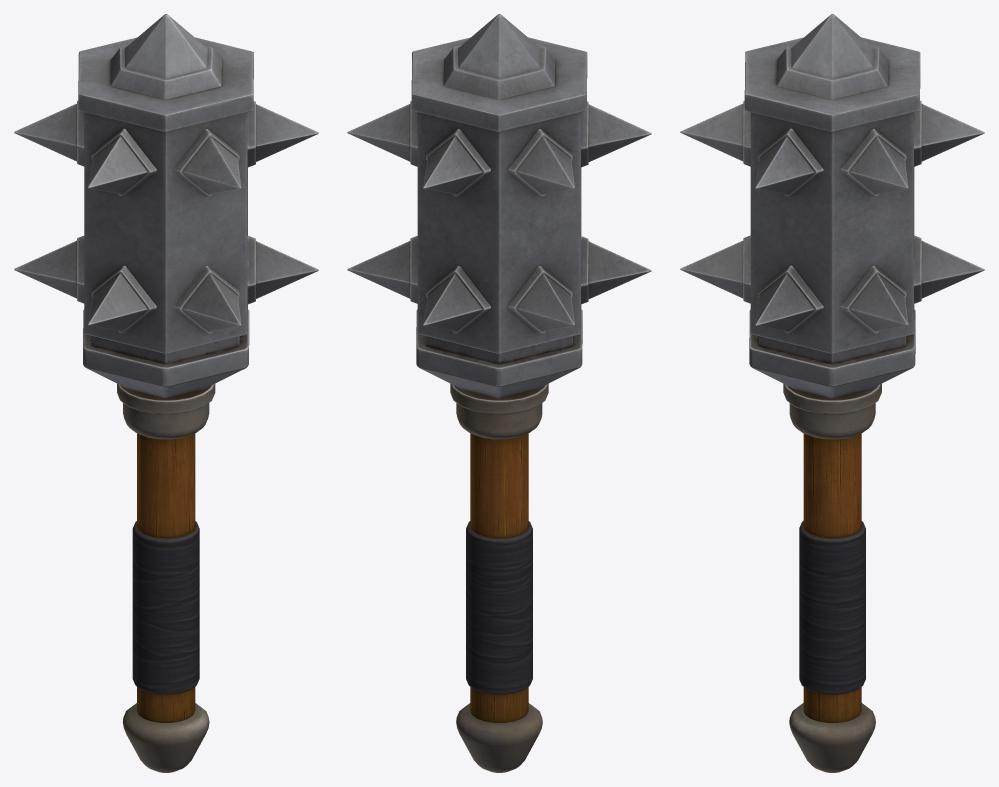
Rendered from stick_mace.fbx.
3 renders of one model, left to right at view 1: azimuth 30°, elevation 25°; view 2: azimuth 150°, elevation 25°; view 3: azimuth 270°, elevation 25°, orthographic.
Parts seen in each view (by area): view 1: Mace 2; view 2: Mace 2; view 3: Mace 2.
Part boxes in pixels (bbox=[...]): Mace 2: bbox=[14, 14, 318, 772]; Mace 2: bbox=[347, 14, 651, 772]; Mace 2: bbox=[680, 14, 984, 772].
Size of the model in its own units: 33.54 by 105 by 38.48.
